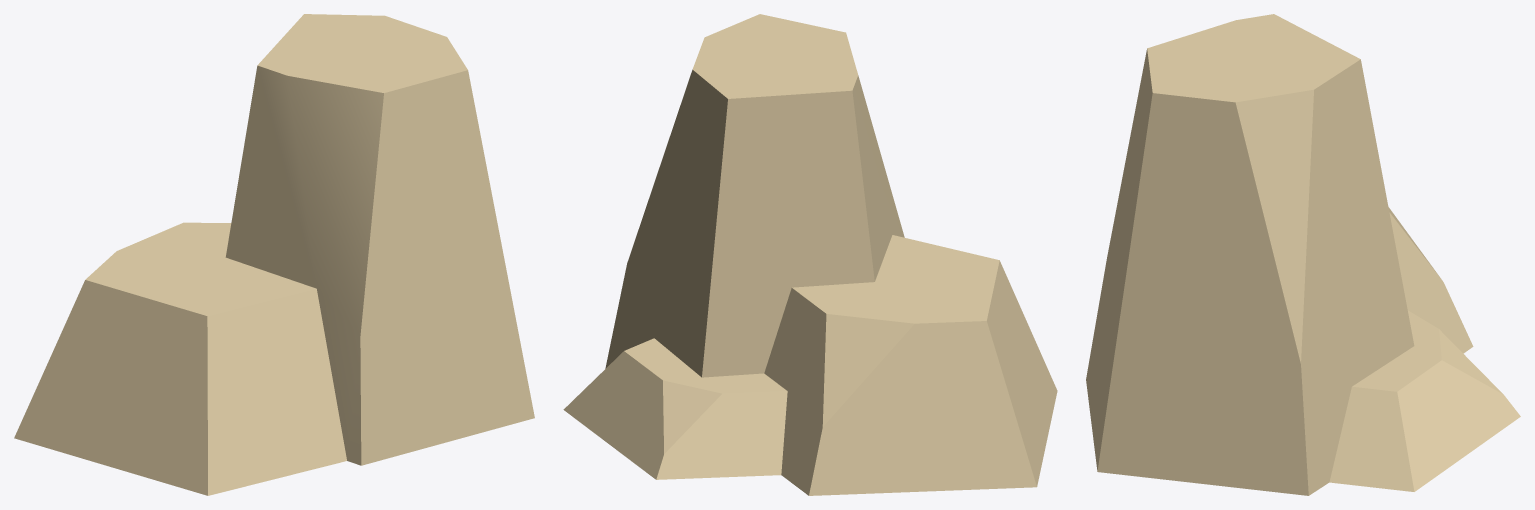
File: rockA.fbx
3 views of the same model, side by side, from view 1: azimuth 30°, elevation 25°; view 2: azimuth 150°, elevation 25°; view 3: azimuth 270°, elevation 25° (orthographic). The views are drawn at different scales.
Visible parts, largest first — view 1: rockA; view 2: rockA; view 3: rockA.
Part boxes in pixels (bbox=[...]): rockA: bbox=[14, 14, 534, 495]; rockA: bbox=[563, 14, 1057, 495]; rockA: bbox=[1086, 14, 1520, 495].
Size of the model in its own units: 22.21 by 15.71 by 17.3.
